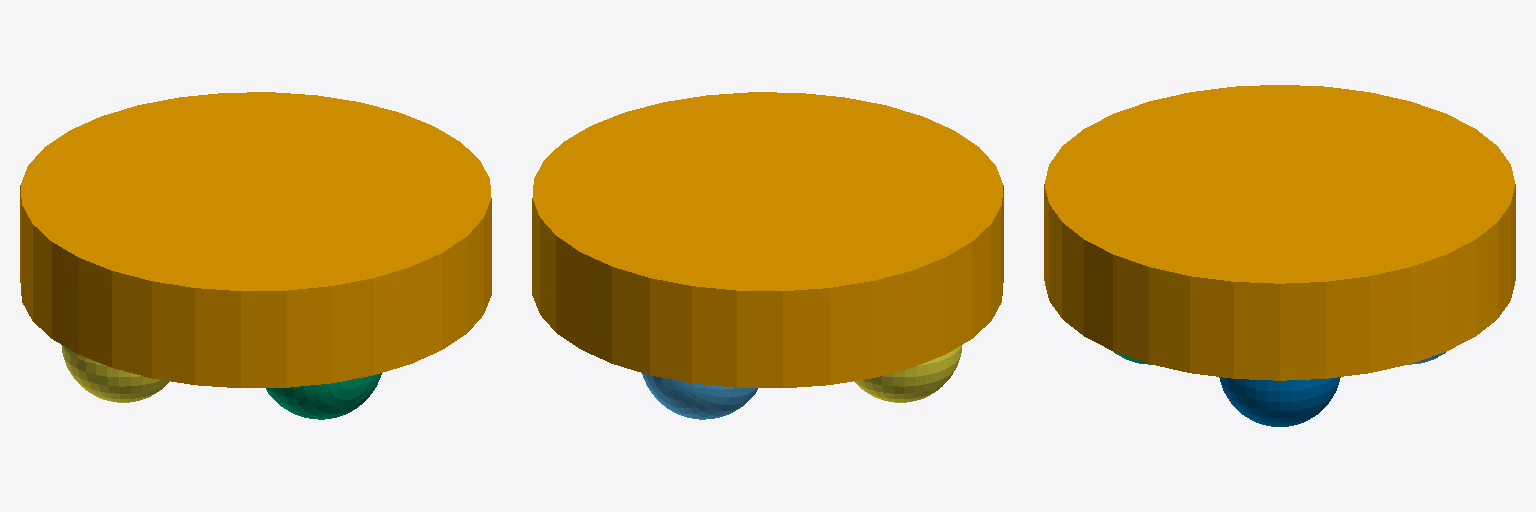
The robot description file, URDF, robot "human_vehicle":
<?xml version='1.0' encoding='utf-8'?>
<robot name='human_vehicle'>
  <link name='human_vehicle/base_footprint'>
    <inertial>
      <origin xyz='0 0 0.1' rpy='0 -0 0'/>
      <mass value='1.14395'/>
      <inertia ixx='0.126164' ixy='0' ixz='0' iyy='0.416519' iyz='0' izz='0.481014'/>
    </inertial>
    <collision name='collision'>
      <origin xyz='0 0 0.1' rpy='0 -0 0'/>
      <geometry>
        <cylinder radius='0.55' length='0.15'/>
      </geometry>
    </collision>
    <visual name='visual'>
      <origin xyz='0 0 0.1' rpy='0 -0 0'/>
      <geometry>
        <cylinder radius='0.55' length='0.25'/>
      </geometry>
    </visual>
  </link>
  <link name='human_vehicle/left_wheel'>
    <inertial>
      <origin xyz='0 0 0' rpy='0 -0 0'/>
      <mass value='2'/>
      <inertia ixx='0.145833' ixy='0' ixz='0' iyy='0.145833' iyz='0' izz='0.125'/>
    </inertial>
    <collision name='collision'>
      <origin xyz='0 0 0' rpy='0 -0 0'/>
      <geometry>
        <sphere radius='0.15'/>
      </geometry>
    </collision>
    <visual name='visual'>
      <origin xyz='0 0 0' rpy='0 -0 0'/>
      <geometry>
        <sphere radius='0.15'/>
      </geometry>
    </visual>
  </link>
  <link name='human_vehicle/right_wheel'>
    <inertial>
      <origin xyz='0 0 0' rpy='0 -0 0'/>
      <mass value='2'/>
      <inertia ixx='0.145833' ixy='0' ixz='0' iyy='0.145833' iyz='0' izz='0.125'/>
    </inertial>
    <collision name='collision'>
      <origin xyz='0 0 0' rpy='0 -0 0'/>
      <geometry>
        <sphere radius='0.15'/>
      </geometry>
    </collision>
    <visual name='visual'>
      <origin xyz='0 0 0' rpy='0 -0 0'/>
      <geometry>
        <sphere radius='0.15'/>
      </geometry>
    </visual>
  </link>
  <link name='human_vehicle/caster'>
    <inertial>
      <origin xyz='0 0 0' rpy='0 -0 0'/>
      <mass value='1'/>
      <inertia ixx='0.1' ixy='0' ixz='0' iyy='0.1' iyz='0' izz='0.1'/>
    </inertial>
    <collision name='collision'>
      <origin xyz='0 0 0' rpy='0 -0 0'/>
      <geometry>
        <sphere radius='0.145'/>
      </geometry>
    </collision>
    <visual name='visual'>
      <origin xyz='0 0 0' rpy='0 -0 0'/>
      <geometry>
        <sphere radius='0.145'/>
      </geometry>
    </visual>
  </link>
  <link name='human_vehicle/caster_front'>
    <inertial>
      <origin xyz='0 0 0' rpy='0 -0 0'/>
      <mass value='1'/>
      <inertia ixx='0.1' ixy='0' ixz='0' iyy='0.1' iyz='0' izz='0.1'/>
    </inertial>
    <collision name='collision'>
      <origin xyz='0 0 0' rpy='0 -0 0'/>
      <geometry>
        <sphere radius='0.145'/>
      </geometry>
    </collision>
    <visual name='visual'>
      <origin xyz='0 0 0' rpy='0 -0 0'/>
      <geometry>
        <sphere radius='0.145'/>
      </geometry>
    </visual>
  </link>
  <link name='human_vehicle/front_laser_link'>
    <inertial>
      <origin xyz='0 0 0' rpy='-3.1415926535897932 0 0'/>
      <mass value='1'/>
      <inertia ixx='1' ixy='0' ixz='0' iyy='1' iyz='0' izz='1'/>
    </inertial>
    <visual name='visual'>
      <origin xyz='0 0 0' rpy='-3.1415926535897932 0 0'/>
      <geometry>
        <sphere radius='0.05'/>
      </geometry>
    </visual>
  </link>
  <sensor name='human_vehicle_front_laser_sensor' update_rate='20'>
    <parent link='front_laser_link'/>
    <origin xyz='0 0 0' rpy='0 -0 0'/>
  </sensor>
  <joint name='front_laser_joint' type='fixed'>
    <origin xyz='0 0 0' rpy='3.1415926535897932 -0 0'/>
    <parent link='human_vehicle/base_footprint'/>
    <child link='human_vehicle/front_laser_link'/>
    <axis xyz='0 0 1'/>
    <limit lower='-1e+16' upper='1e+16' effort='-1' velocity='-1'/>
  </joint>
  <joint name='left_wheel_joint' type='revolute'>
    <origin xyz='0 0.3 -0.075' rpy='-1.57071 0 0'/>
    <parent link='human_vehicle/base_footprint'/>
    <child link='human_vehicle/left_wheel'/>
    <axis xyz='0 0 1'/>
    <limit lower='-1.79769e+308' upper='1.79769e+308' effort='-1' velocity='-1'/>
  </joint>
  <joint name='right_wheel_joint' type='revolute'>
    <origin xyz='0 -0.3 -0.075' rpy='-1.57071 0 0'/>
    <parent link='human_vehicle/base_footprint'/>
    <child link='human_vehicle/right_wheel'/>
    <axis xyz='0 0 1'/>
    <limit lower='-1.79769e+308' upper='1.79769e+308' effort='-1' velocity='-1'/>
  </joint>
  <joint name='caster_wheel' type='fixed'>
    <origin xyz='-0.357138 0 -0.075' rpy='0 -0 0'/>
    <parent link='human_vehicle/base_footprint'/>
    <child link='human_vehicle/caster'/>
    <axis xyz='0 0 1'/>
    <limit lower='-1e+16' upper='1e+16' effort='-1' velocity='-1'/>
  </joint>
  <joint name='caster_wheel_front' type='fixed'>
    <origin xyz='0.357138 0 -0.075' rpy='0 -0 0'/>
    <parent link='human_vehicle/base_footprint'/>
    <child link='human_vehicle/caster_front'/>
    <axis xyz='0 0 1'/>
    <limit lower='-1e+16' upper='1e+16' effort='-1' velocity='-1'/>
  </joint>
</robot>

--- Render facts (derived) ---
The picture shows the robot from 3 angles, left to right: view 1: azimuth 30°, elevation 25°; view 2: azimuth 150°, elevation 25°; view 3: azimuth 270°, elevation 25°; orthographic projection.
Model human_vehicle with 6 links and 5 joints (2 revolute, 3 fixed), rooted at human_vehicle/base_footprint, posed all joints at 0.
Links seen in each view (by area): view 1: human_vehicle/base_footprint, human_vehicle/right_wheel, human_vehicle/caster; view 2: human_vehicle/base_footprint, human_vehicle/left_wheel, human_vehicle/caster; view 3: human_vehicle/base_footprint, human_vehicle/caster_front.
Link boxes in pixels (x1,y1,x2,y2): human_vehicle/base_footprint: (20,92,491,387); human_vehicle/right_wheel: (266,373,381,419); human_vehicle/caster: (62,345,169,402); human_vehicle/base_footprint: (532,92,1003,387); human_vehicle/left_wheel: (642,373,757,419); human_vehicle/caster: (854,345,961,402); human_vehicle/base_footprint: (1044,85,1515,380); human_vehicle/caster_front: (1219,377,1340,426).
Size in the robot's own frame: 1.1 by 1.1 by 0.45 metres.
Geometry: primitives only (box / cylinder / sphere), no mesh files.